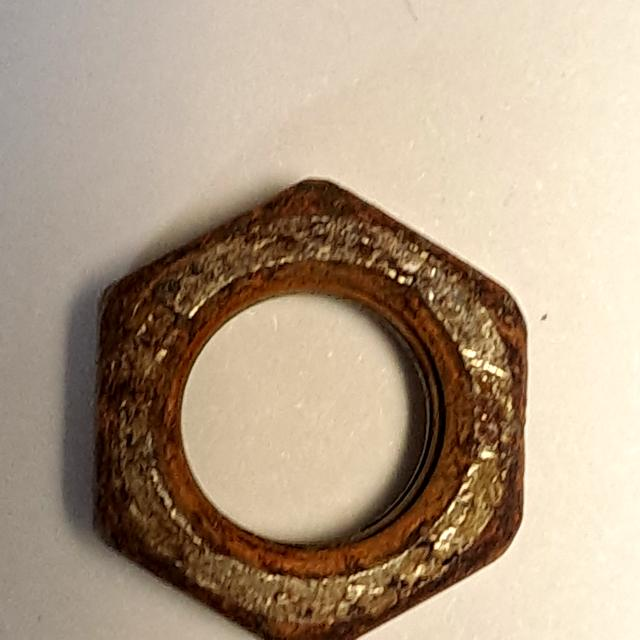Rust: (82, 157, 543, 640)
